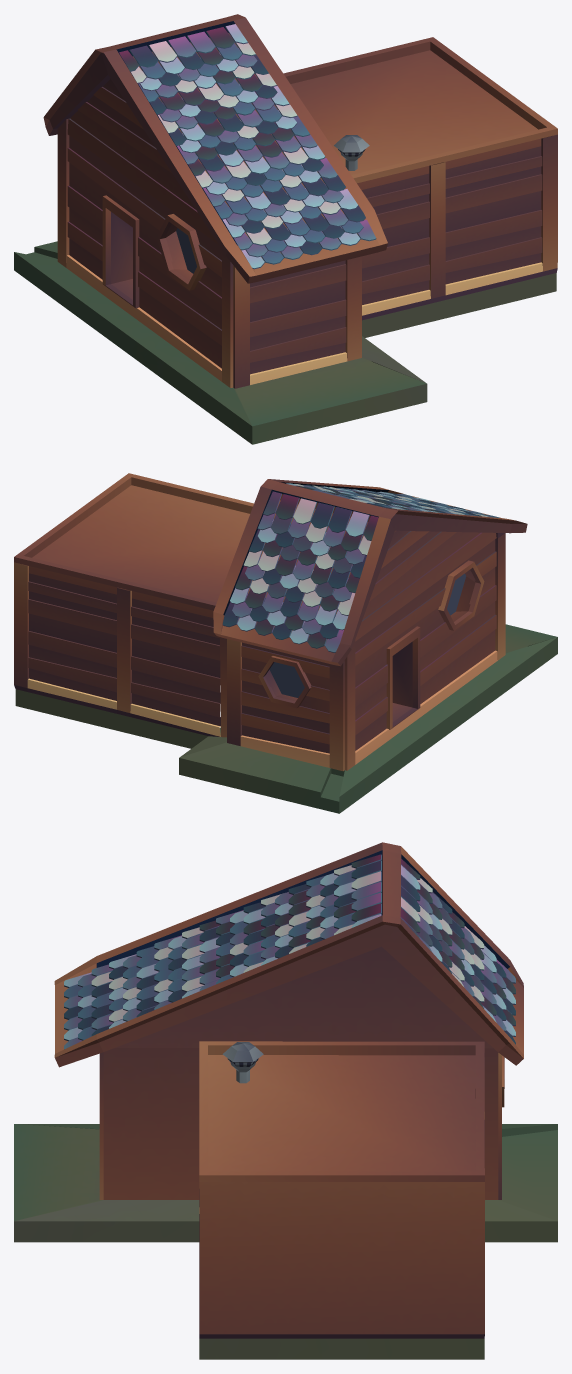
The model's file is House_Birdhouse03.fbx.
3 renders of one model, top to bottom at view 1: azimuth 30°, elevation 25°; view 2: azimuth 150°, elevation 25°; view 3: azimuth 270°, elevation 25°, orthographic. The views are drawn at different scales.
Parts seen in each view (by area): view 1: Cube.002; view 2: Cube.002; view 3: Cube.002.
Boxes of the visible parts, x1,y1,x2,y2 form: Cube.002: (14, 14, 557, 444); Cube.002: (14, 473, 557, 813); Cube.002: (14, 842, 557, 1359).
Size of the model in its own units: 608 by 407 by 648.
